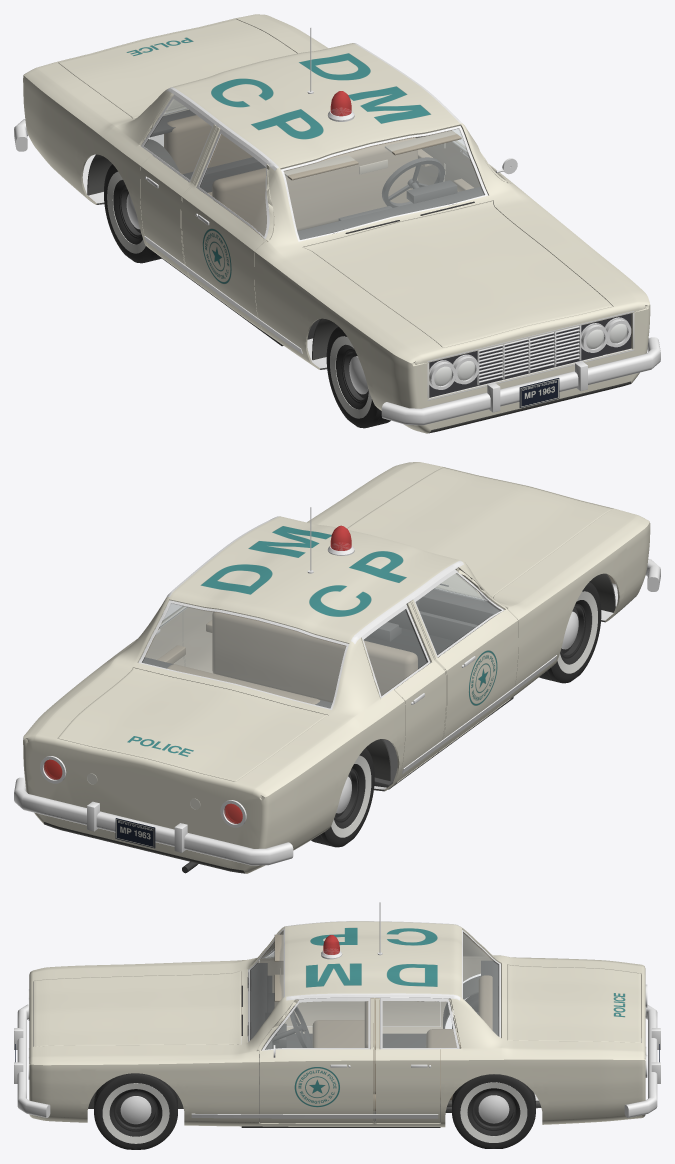
File: SM_V01_PatrolSedan_MPDC.glb
3 renders of one model, top to bottom at view 1: azimuth 30°, elevation 25°; view 2: azimuth 150°, elevation 25°; view 3: azimuth 270°, elevation 25°, orthographic. The views are drawn at different scales.
Visible parts, largest first — view 1: BODY, HOOD, GLASS_WINDSHIELD, TRUNK, INT_SEAT_FRONT, DOOR_FR, BUMPER_FRONT, DOOR_RR, POLICE_DECAL_ROOF_ID, GRILLE_BARS, GLASS_DOOR_FR, GRILLE_BACK (+19 smaller); view 2: BODY, TRUNK, HOOD, GLASS_REAR, INT_SEAT_FRONT, DOOR_FR, BUMPER_REAR, DOOR_RR, POLICE_DECAL_ROOF_ID, GLASS_DOOR_FR, INT_DASH, GLASS_DOOR_RR (+16 smaller); view 3: BODY, HOOD, TRUNK, DOOR_FL, WHEEL_FL, WHEEL_RL, DOOR_RL, GLASS_DOOR_FL, GLASS_DOOR_RL, POLICE_DECAL_ROOF_ID, GLASS_REAR, INT_SEAT_FRONT (+15 smaller).
Part boxes in pixels (x1,y1,x2,y2): BODY: (23,14,650,433); HOOD: (303,201,612,347); GLASS_WINDSHIELD: (284,129,483,239); TRUNK: (58,19,297,118); INT_SEAT_FRONT: (212,137,417,241); DOOR_FR: (182,127,274,329); BUMPER_FRONT: (381,337,660,425); DOOR_RR: (139,93,216,276); POLICE_DECAL_ROOF_ID: (211,53,430,139); GRILLE_BARS: (427,311,634,400); GLASS_DOOR_FR: (200,135,266,235); GRILLE_BACK: (429,313,631,397); BODY: (23,462,650,873); TRUNK: (58,667,327,781); HOOD: (347,467,612,597); GLASS_REAR: (142,604,345,708); INT_SEAT_FRONT: (212,612,417,739); DOOR_FR: (411,568,518,751); BUMPER_REAR: (14,777,293,865); DOOR_RR: (361,602,445,781); POLICE_DECAL_ROOF_ID: (201,526,406,616); GLASS_DOOR_FR: (416,574,499,654); INT_DASH: (388,588,501,641); GLASS_DOOR_RR: (364,610,426,695); BODY: (29,921,645,1127); HOOD: (33,970,240,1046); TRUNK: (507,964,640,1042); DOOR_FL: (257,998,373,1123); WHEEL_FL: (94,1073,177,1149); WHEEL_RL: (452,1074,535,1148); DOOR_RL: (375,998,461,1123); GLASS_DOOR_FL: (266,1001,367,1049); GLASS_DOOR_RL: (383,1001,456,1047); POLICE_DECAL_ROOF_ID: (306,928,437,987); GLASS_REAR: (463,933,498,1035); INT_SEAT_FRONT: (312,998,379,1111).
Size of what is drawn, in the model's own units: 2.16 by 1.9 by 5.46.
Materials: 19 (4 with a texture image).
